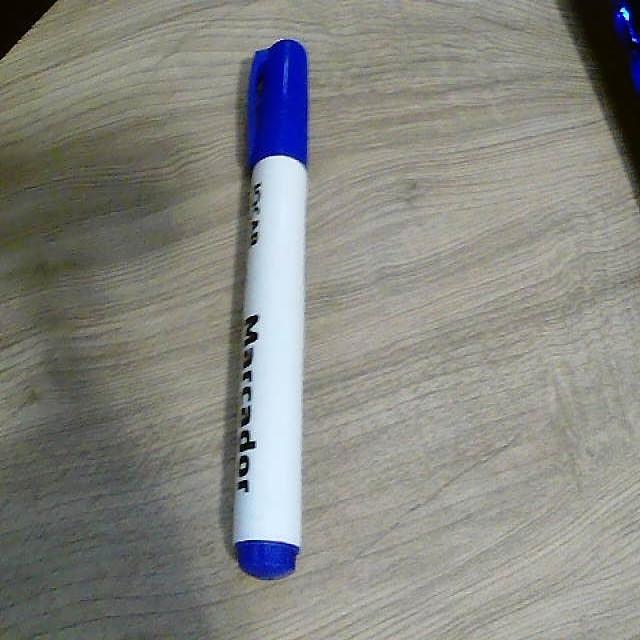caneta: (227, 25, 323, 588)
